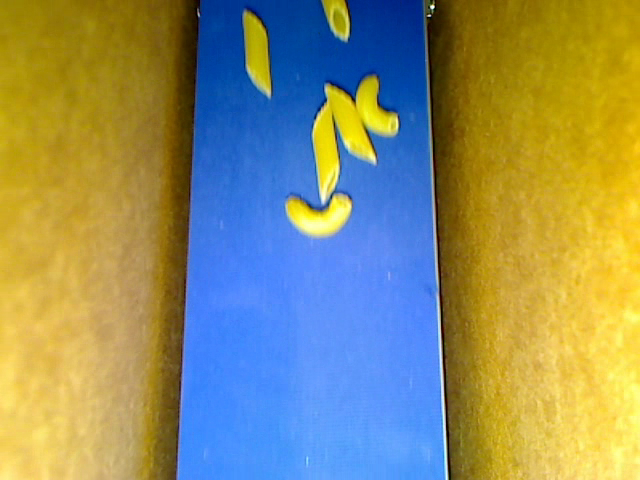elbow: (284, 193, 351, 237), (354, 75, 398, 136)
penne: (324, 83, 375, 162), (312, 100, 339, 203), (241, 10, 272, 97), (321, 1, 350, 43)
